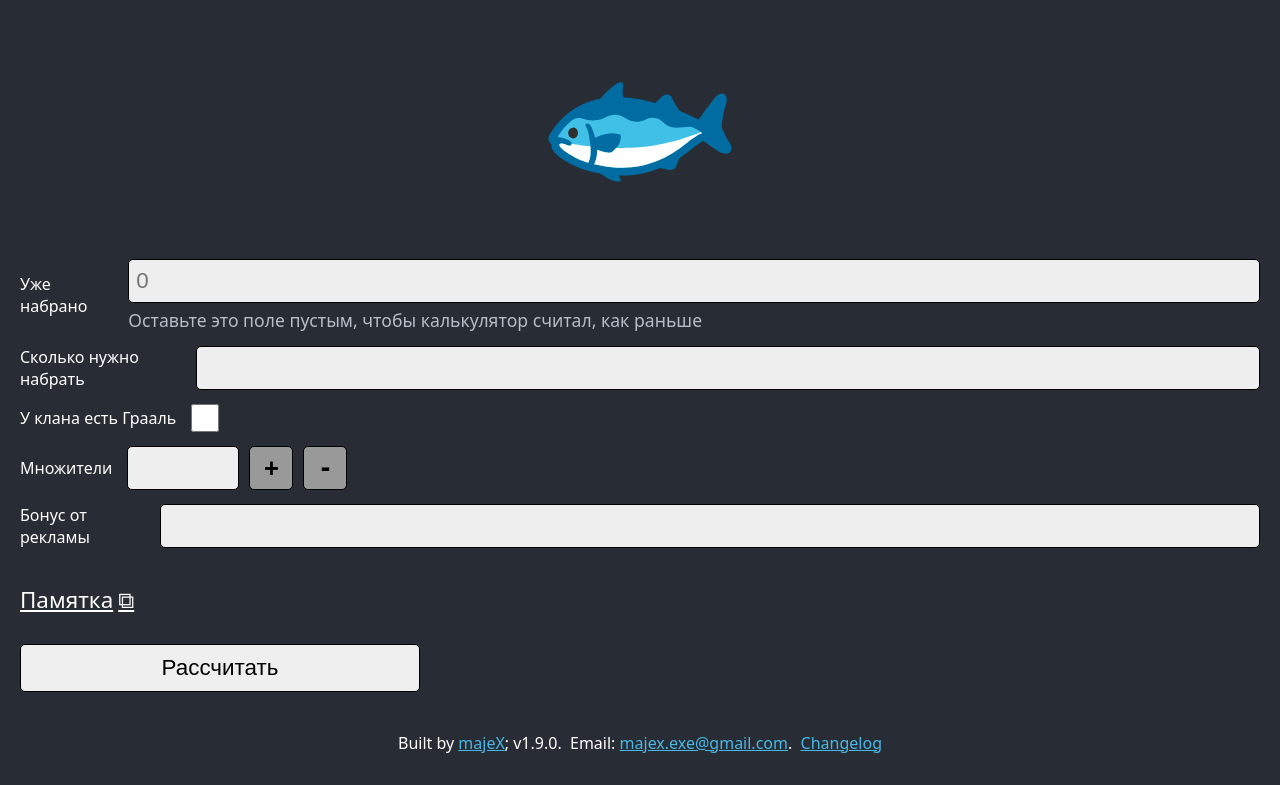
Test case: the grail list may be longer than the base list
In the number field named "Множитель 1": (183, 468) [127,446,239,490], type "11"
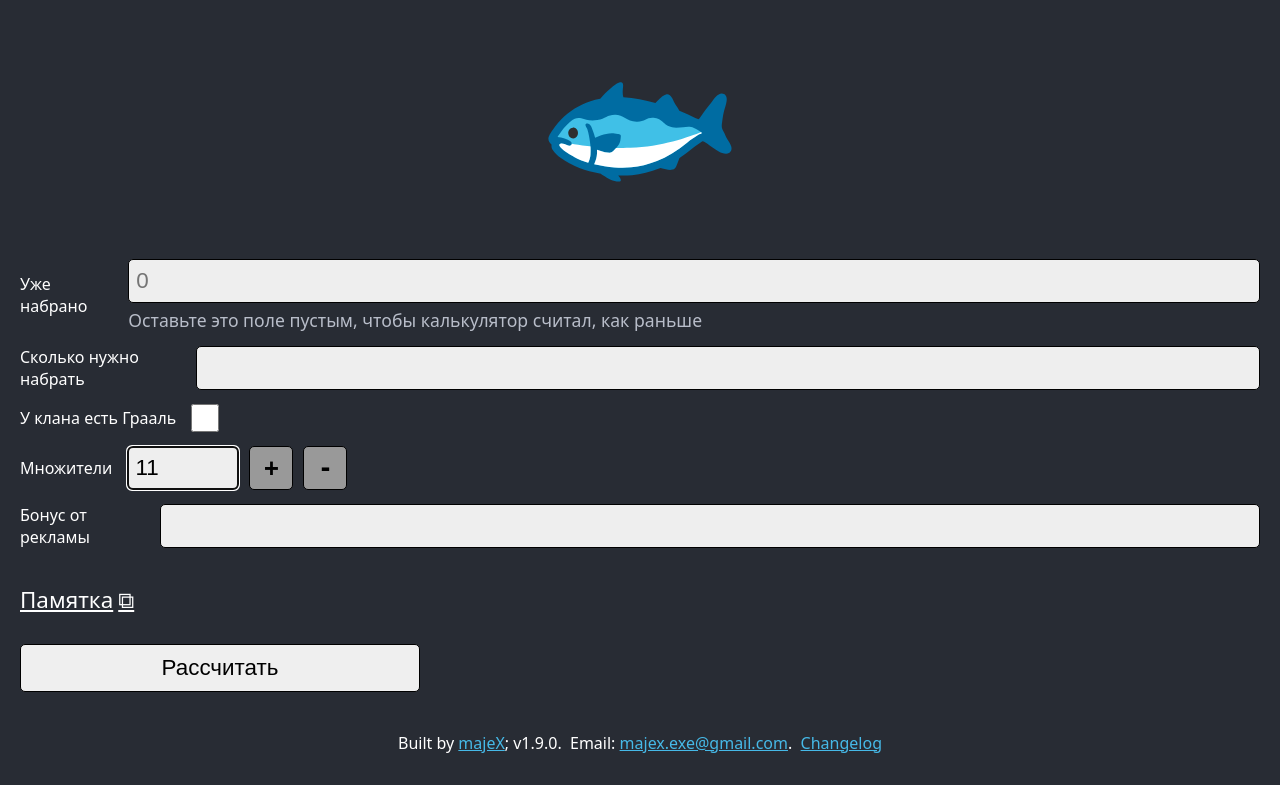
Click the checkbox labelled "У клана есть Грааль": (205, 418) [191,404,219,432]
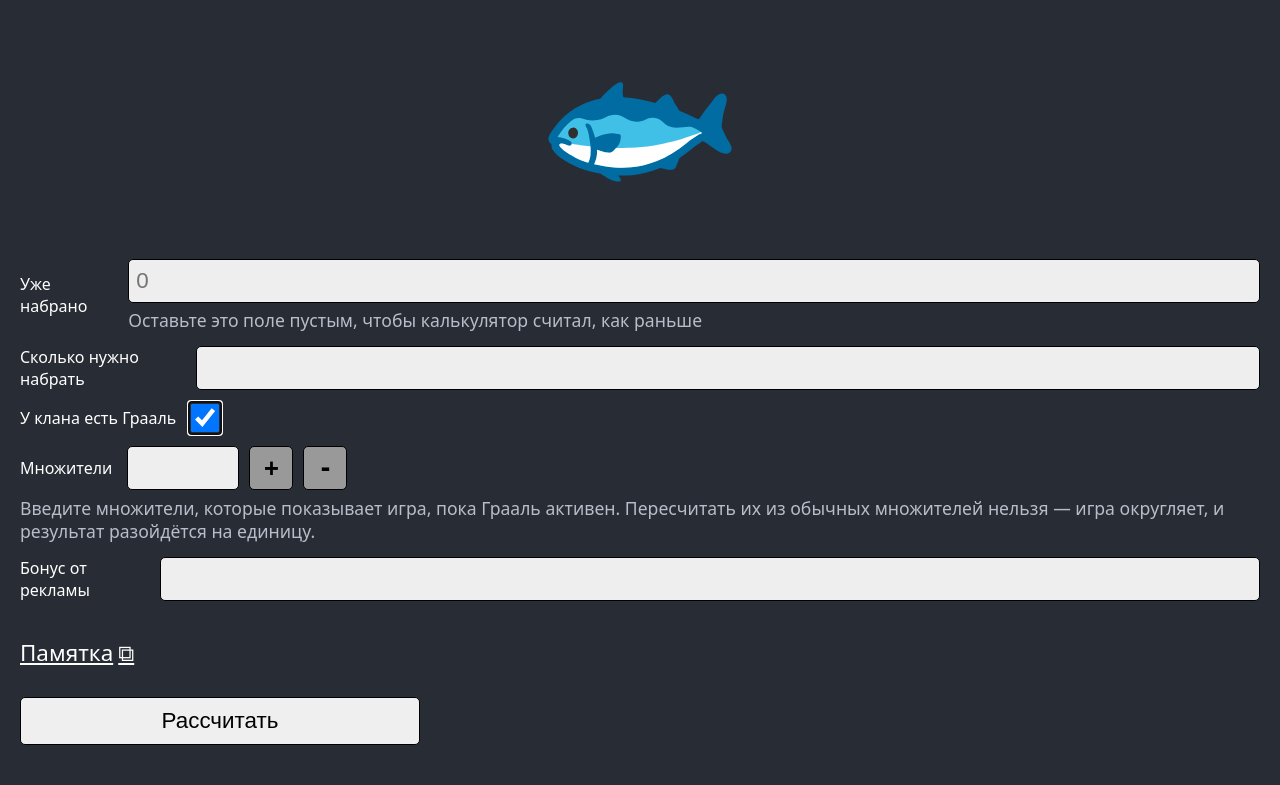
In the number field named "Множитель 1": (183, 468) [127,446,239,490], type "13"
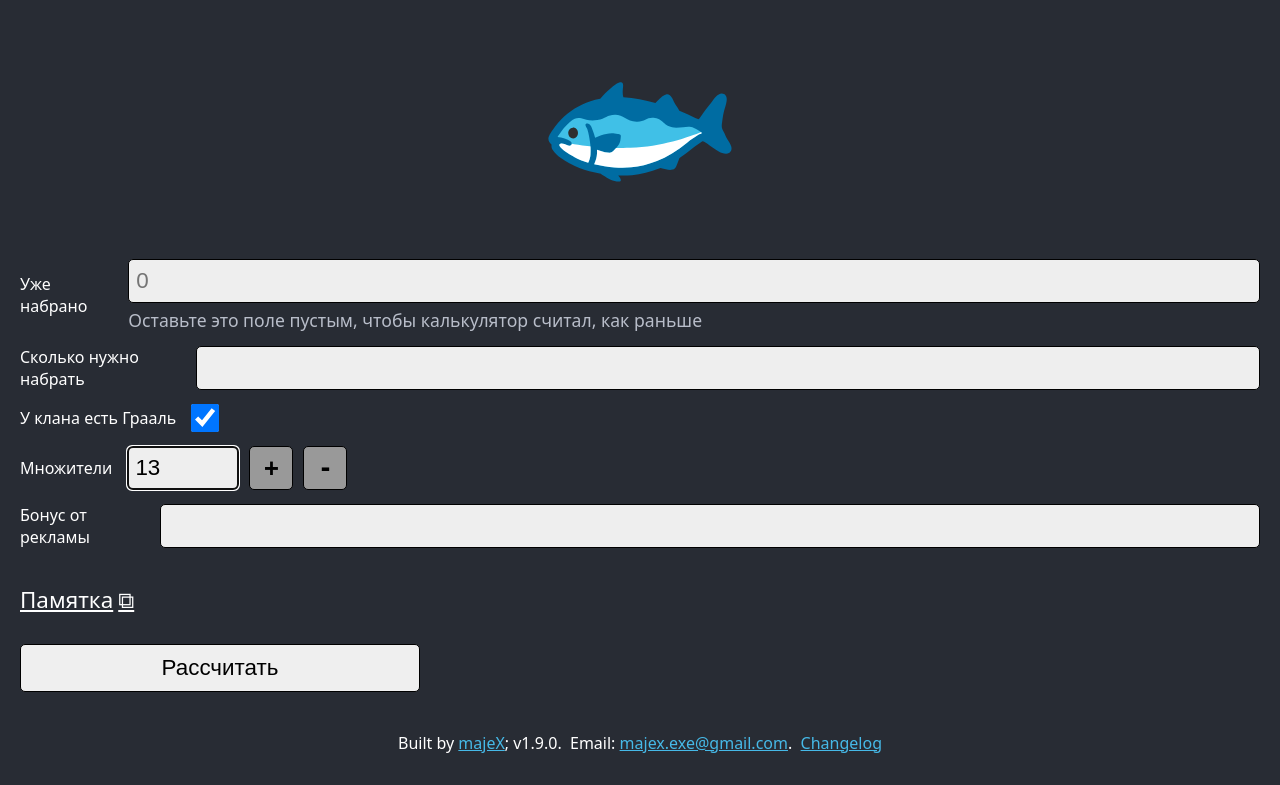
Click the button "+": (271, 468) [249,446,293,490]
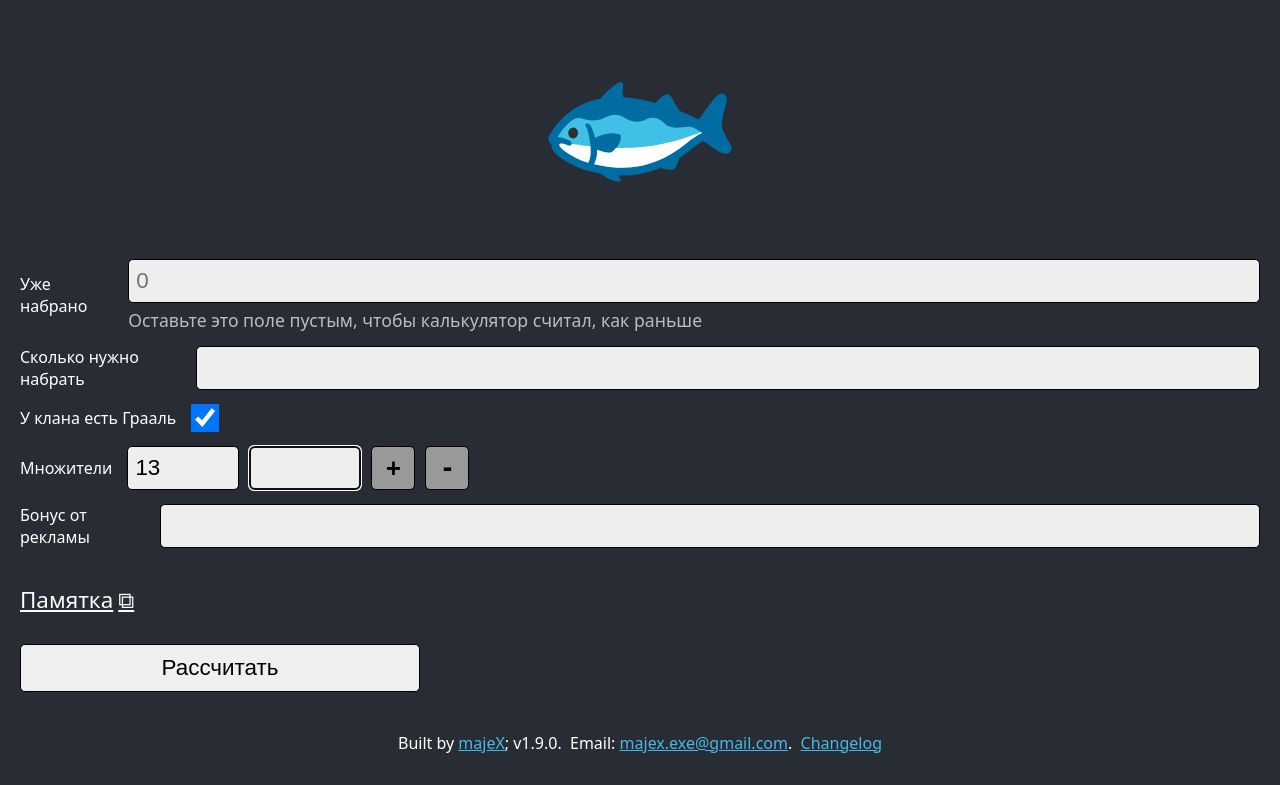
In the number field named "Множитель 2": (305, 468) [249,446,361,490], type "14"
Click the checkbox labelled "У клана есть Грааль": (205, 418) [191,404,219,432]
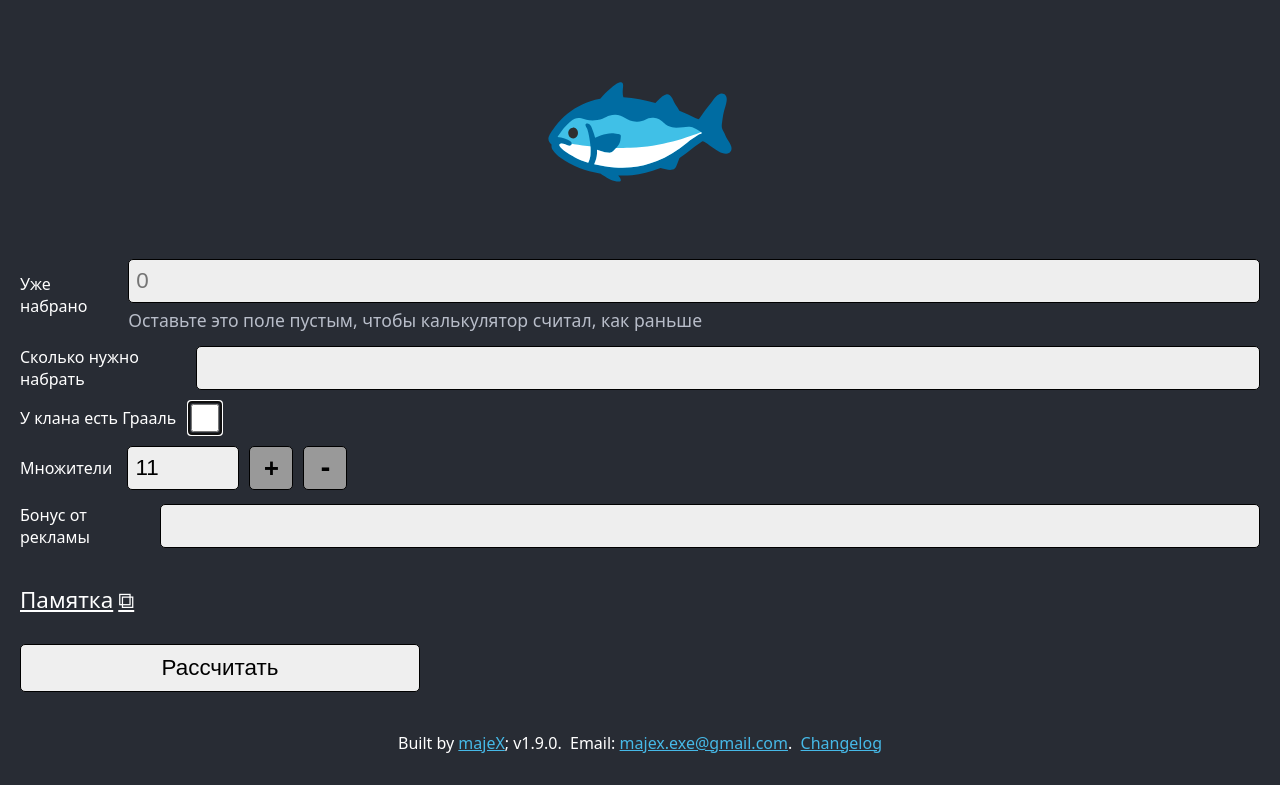
Click the checkbox labelled "У клана есть Грааль": (205, 418) [191,404,219,432]
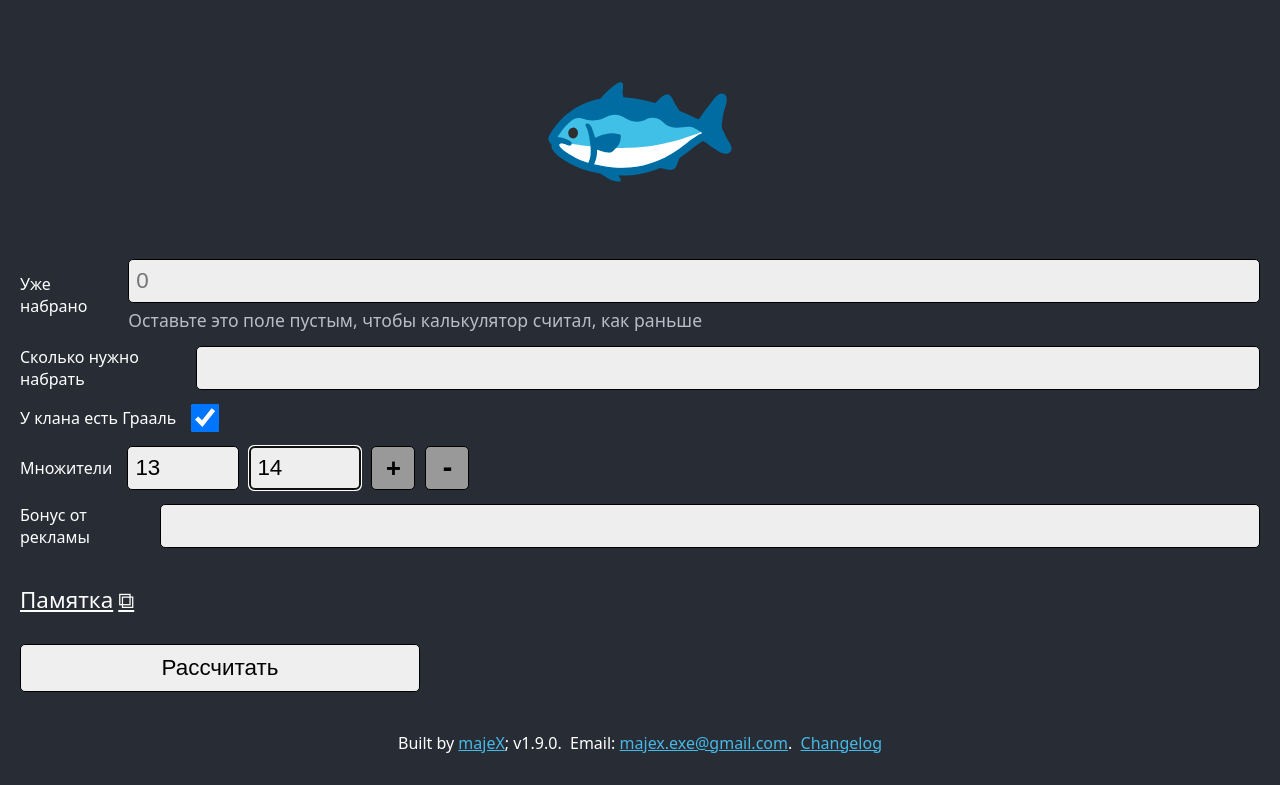
Expected: the number field named "Множитель 2" holds "14", [249,446,361,490]
